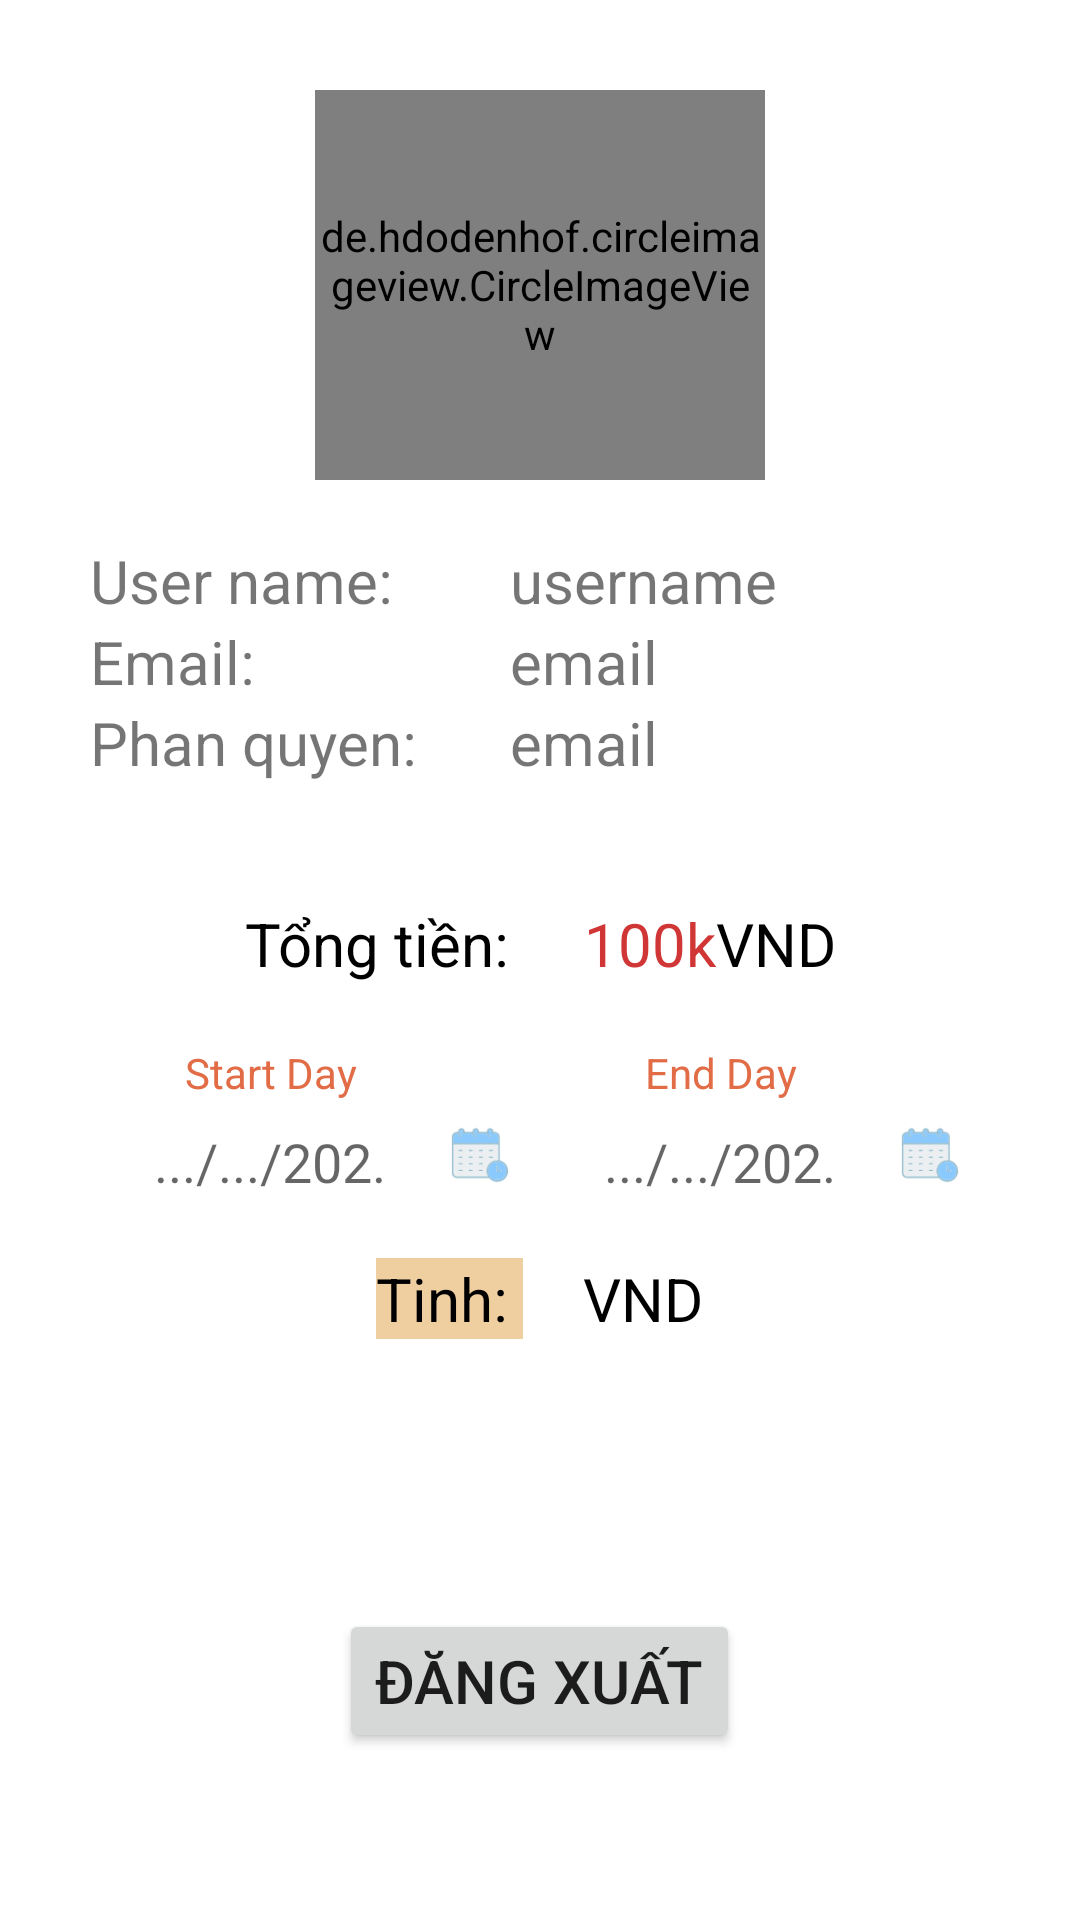

Icons on this 1080x1920 Android screen, each with its box as (left=x1, top=y1, right=x2, bottom=y2):
schedule: (left=451, top=1127, right=509, bottom=1183), (left=901, top=1127, right=959, bottom=1183)
